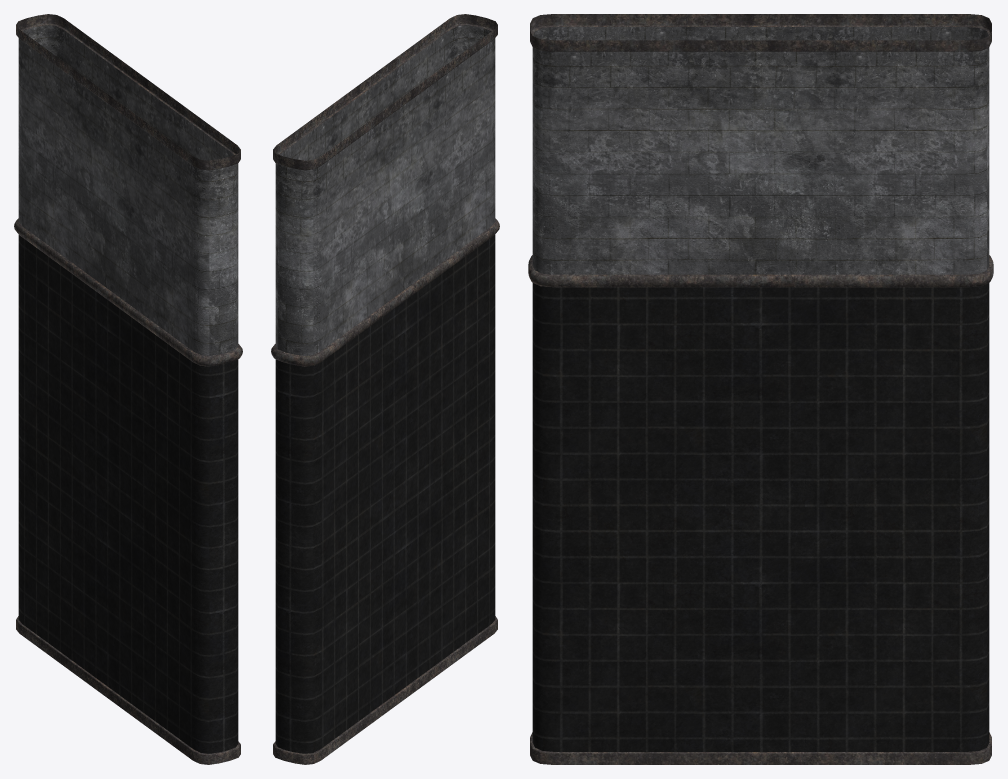
File: BathroomWall_Full.FBX
3 renders of one model, left to right at view 1: azimuth 30°, elevation 25°; view 2: azimuth 150°, elevation 25°; view 3: azimuth 270°, elevation 25°, orthographic. The views are drawn at different scales.
Visible parts, largest first — view 1: BathroomWall_Full; view 2: BathroomWall_Full; view 3: BathroomWall_Full.
Boxes of the visible parts, bbox=[...] form: BathroomWall_Full: bbox=[14, 14, 242, 764]; BathroomWall_Full: bbox=[271, 14, 499, 764]; BathroomWall_Full: bbox=[528, 14, 993, 764].
Bounding box in the file's own units: 11.23 × 138 × 80.13.
